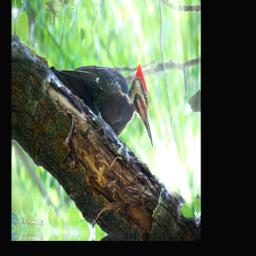Woodpecker: (48, 56, 155, 150)
